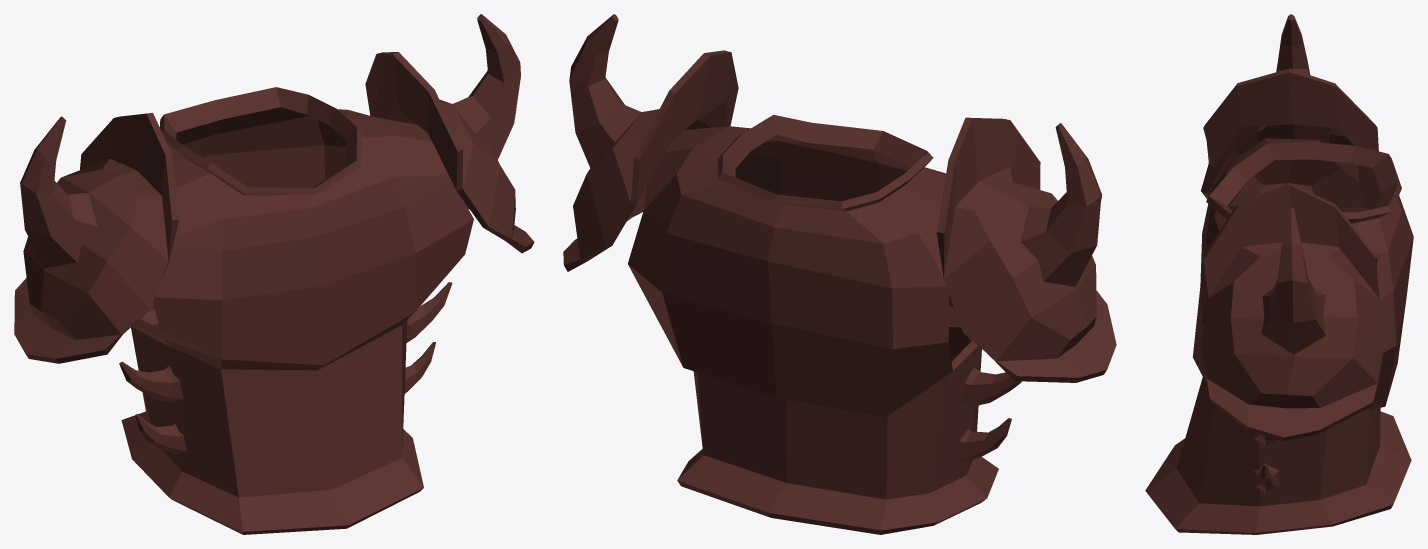
File: negra.glb
3 renders of one model, left to right at view 1: azimuth 30°, elevation 25°; view 2: azimuth 150°, elevation 25°; view 3: azimuth 270°, elevation 25°, orthographic. The views are drawn at different scales.
Parts seen in each view (by area): view 1: Armor_Black_Cylinder.056; view 2: Armor_Black_Cylinder.056; view 3: Armor_Black_Cylinder.056.
Part boxes in pixels (bbox=[...]): Armor_Black_Cylinder.056: bbox=[14, 14, 534, 534]; Armor_Black_Cylinder.056: bbox=[563, 14, 1116, 534]; Armor_Black_Cylinder.056: bbox=[1145, 14, 1413, 534].
Bounding box in the file's own units: 1.54 × 1.2 × 0.7595.
